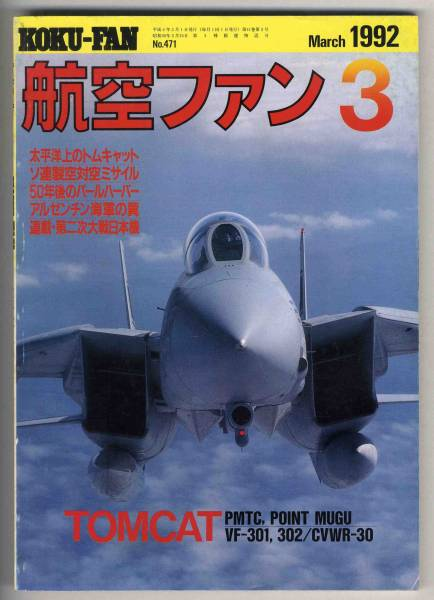F14: (16, 210, 418, 504)
